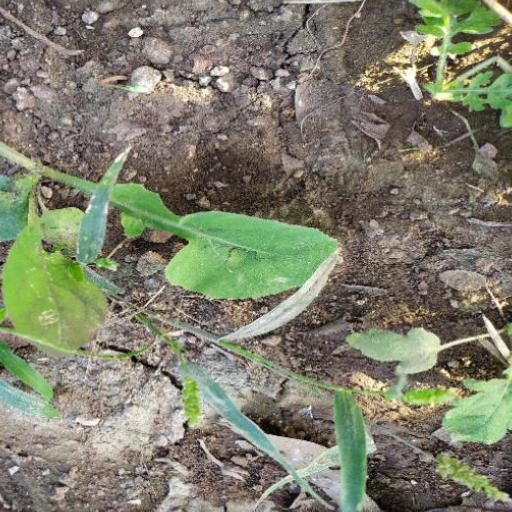weed: (23, 129, 350, 360)
